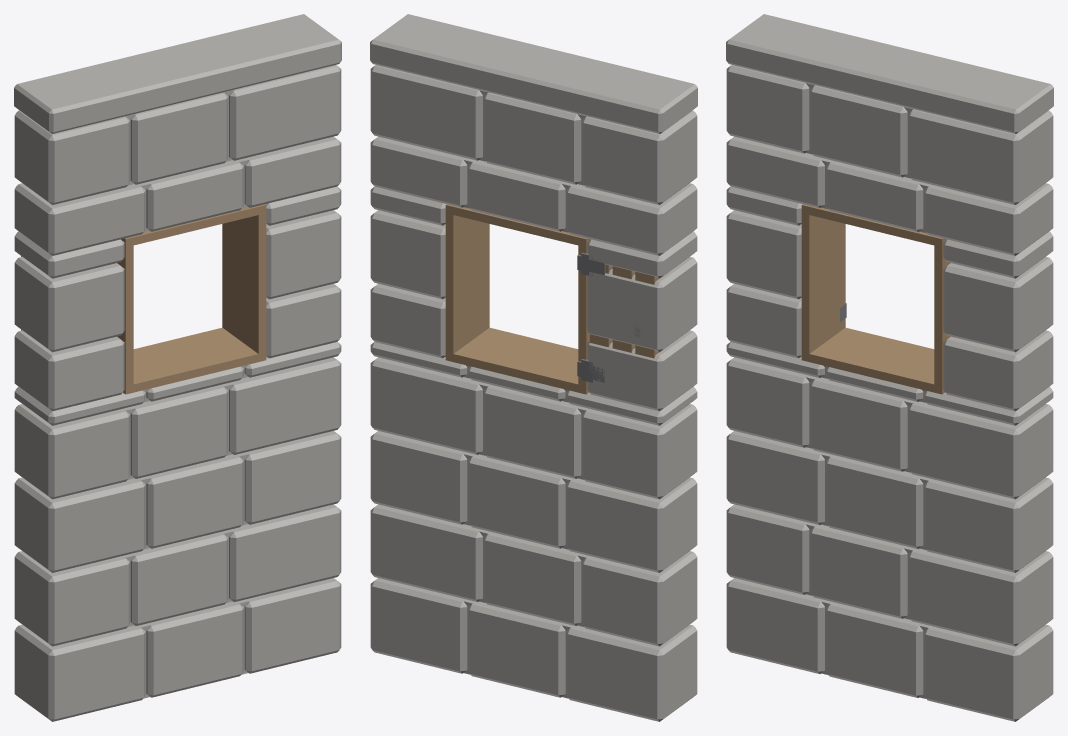
Rendered from wall-stable-hay-hatch.fbx.
The picture shows the model from 3 angles, left to right: view 1: azimuth 30°, elevation 25°; view 2: azimuth 150°, elevation 25°; view 3: azimuth 330°, elevation 25°; orthographic projection.
Visible parts, largest first — view 1: wall-stable-hay-hatch; view 2: wall-stable-hay-hatch; view 3: wall-stable-hay-hatch.
Part boxes in pixels (x1,y1,x2,y2): wall-stable-hay-hatch: (14,14,341,721); wall-stable-hay-hatch: (370,14,697,721); wall-stable-hay-hatch: (726,14,1053,721).
Bounding box in the file's own units: 1.5 × 3 × 0.34.
